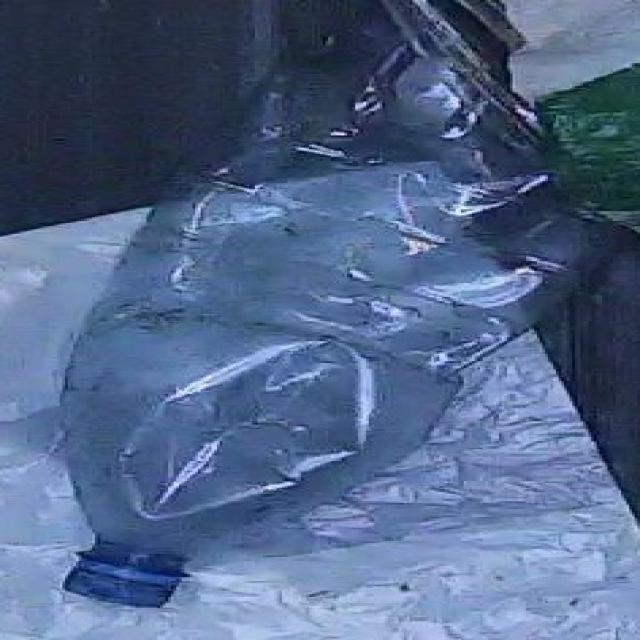plasticbottle: (50, 0, 615, 617)
